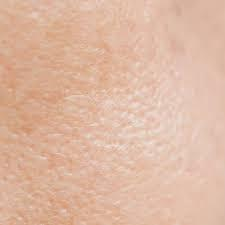Oily-Skin: (2, 40, 159, 196)
